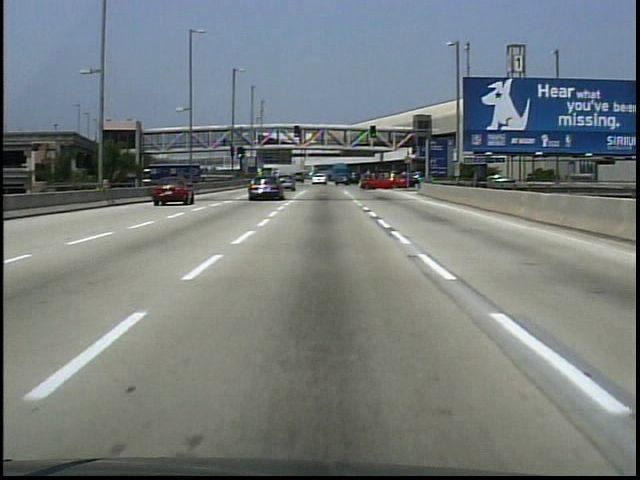person: (222, 137, 227, 149)
